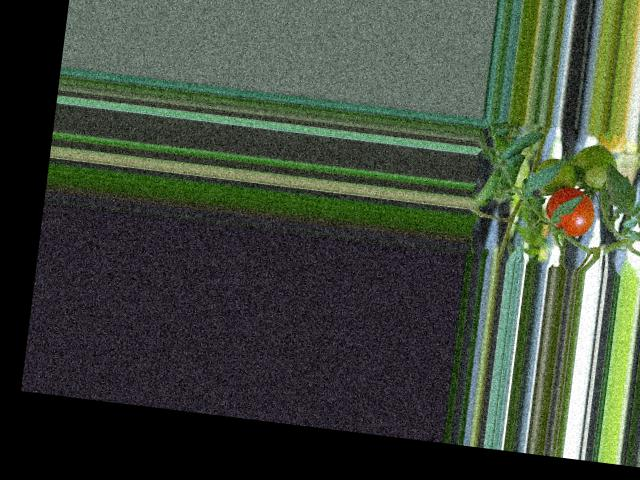tomato: (543, 185, 598, 238)
